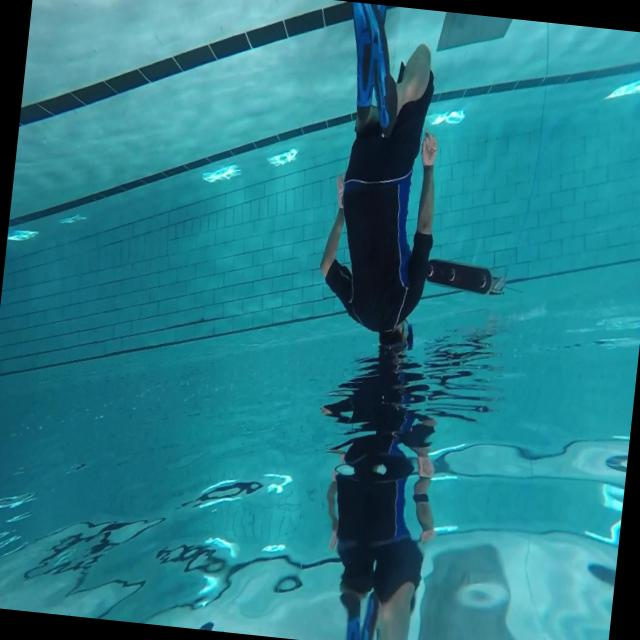human: (310, 2, 457, 363)
